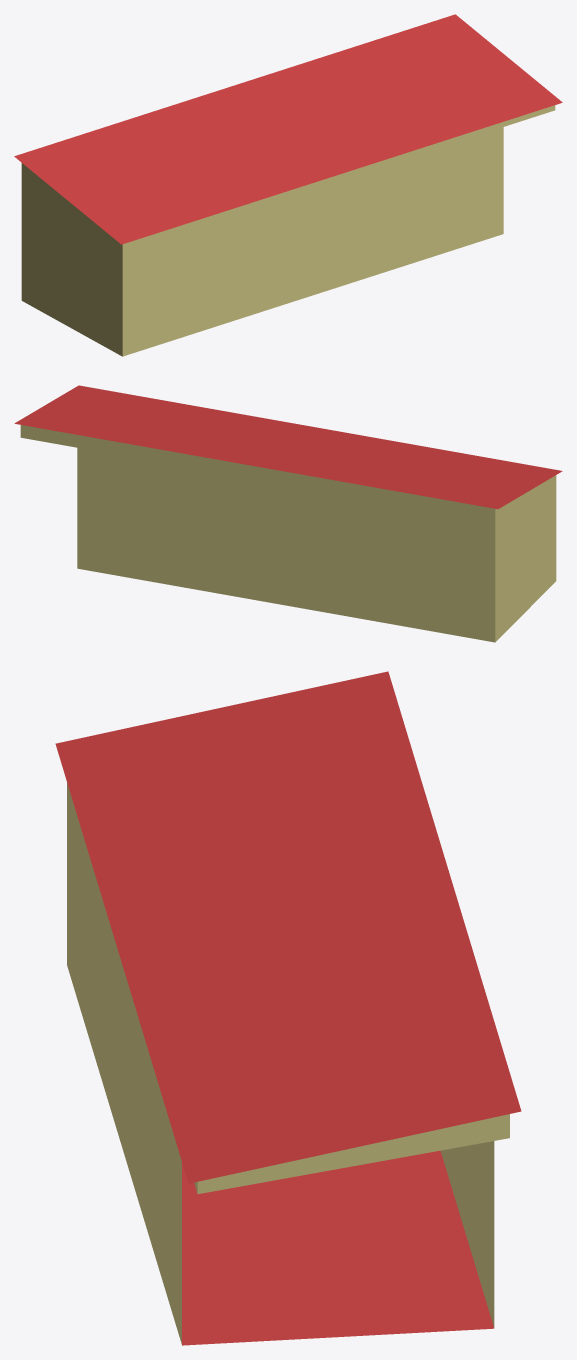
3 renders of one model, top to bottom at view 1: azimuth 30°, elevation 25°; view 2: azimuth 150°, elevation 25°; view 3: azimuth 270°, elevation 25°, orthographic. The views are drawn at different scales.
Bounding box in the file's own units: 26 × 11.18 × 7.21.
